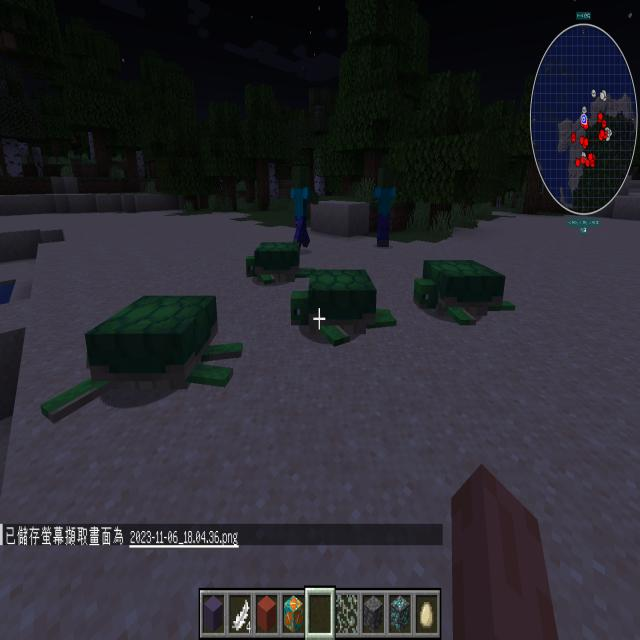Zombie: (287, 158, 323, 260), (371, 161, 400, 252)
